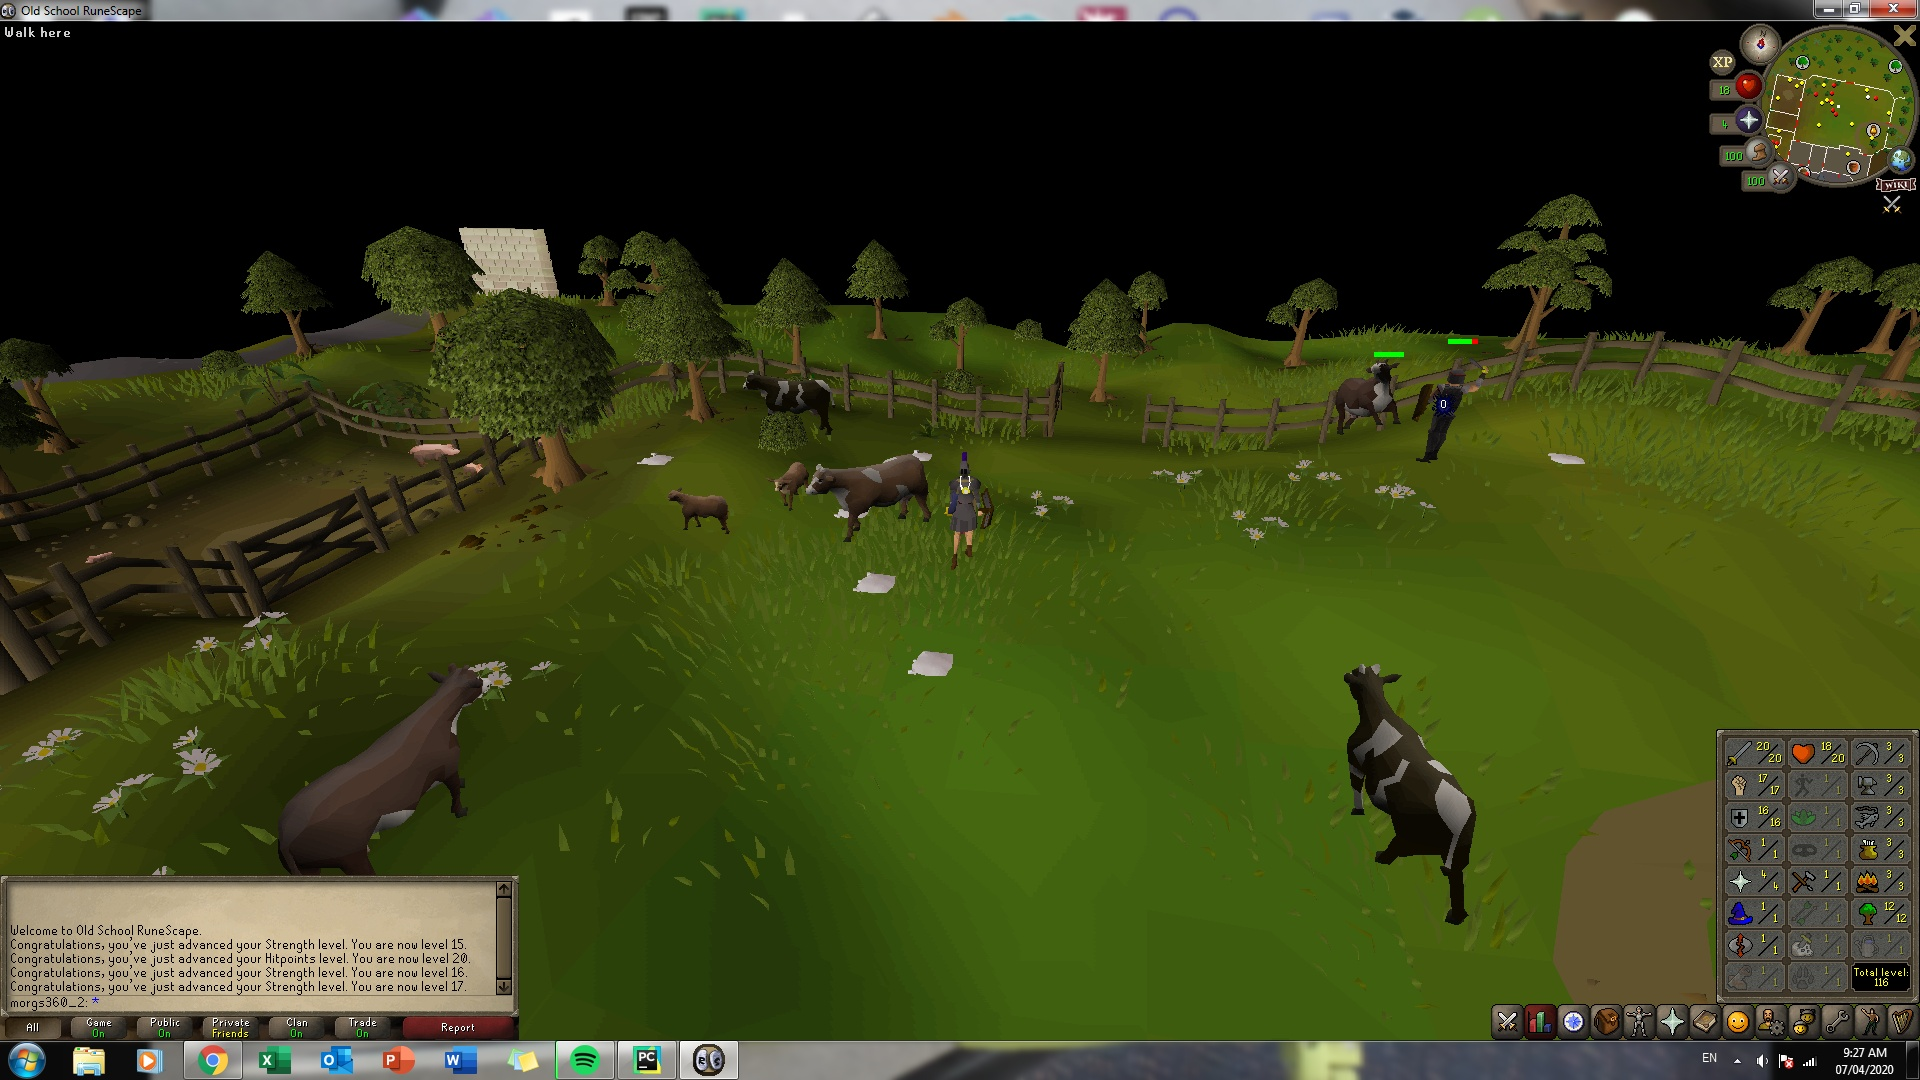cow: (281, 661, 488, 871), (1340, 663, 1479, 929), (813, 451, 936, 544), (740, 366, 834, 439), (1331, 364, 1403, 435), (667, 487, 731, 532), (769, 460, 813, 515)
player: (951, 454, 981, 573)
